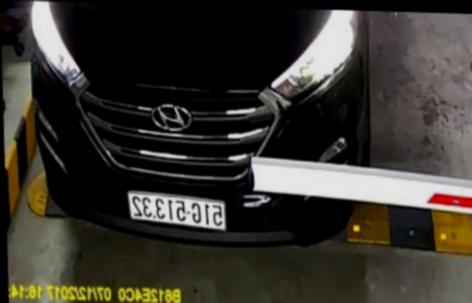License_Plate: (117, 187, 233, 248)
